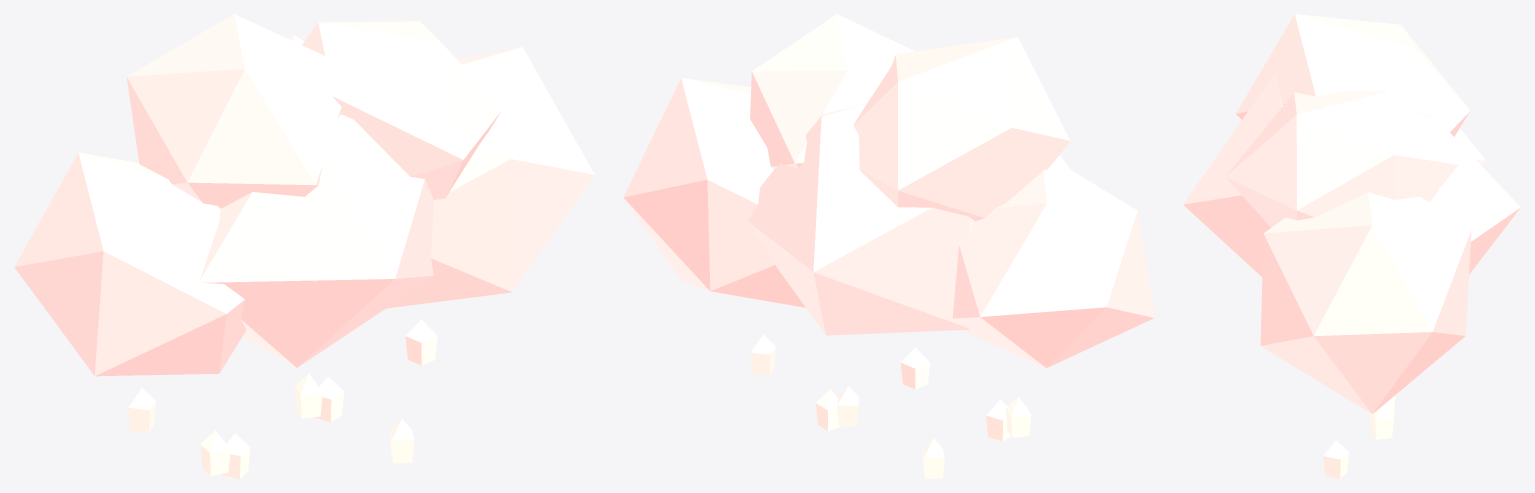
File: efecto_tormenta.glb
3 renders of one model, left to right at view 1: azimuth 30°, elevation 25°; view 2: azimuth 150°, elevation 25°; view 3: azimuth 270°, elevation 25°, orthographic. The views are drawn at different scales.
Visible parts, largest first — view 1: Malla_coral, Malla_coral2; view 2: Malla_coral, Malla_coral2; view 3: Malla_coral, Malla_coral2.
Part boxes in pixels (x1,y1,x2,y2): Malla_coral: (14,14,594,376); Malla_coral2: (128,319,437,478); Malla_coral: (623,14,1154,367); Malla_coral2: (750,334,1031,478); Malla_coral: (1183,14,1520,414); Malla_coral2: (1323,396,1395,478).
Bounding box in the file's own units: 1.13 × 0.9347 × 0.7377.
